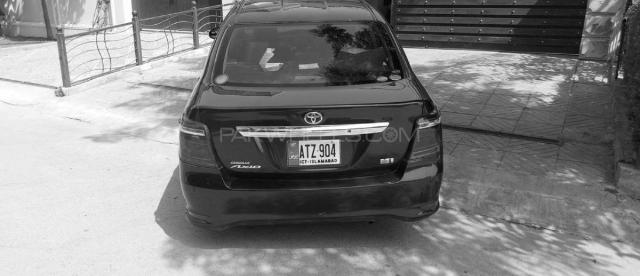Number: (300, 144, 340, 160)
